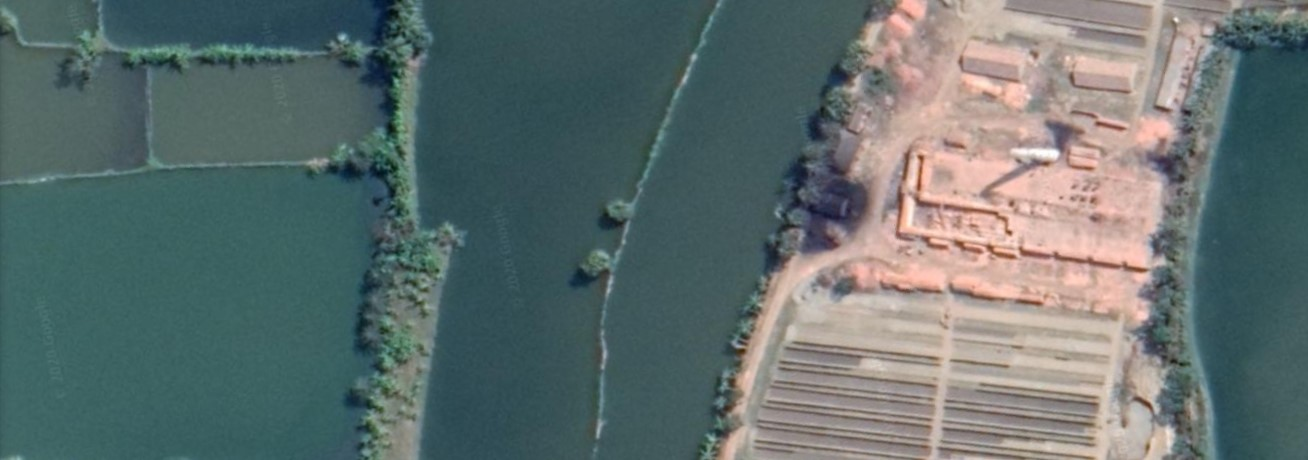kiln: (880, 102, 1153, 269)
